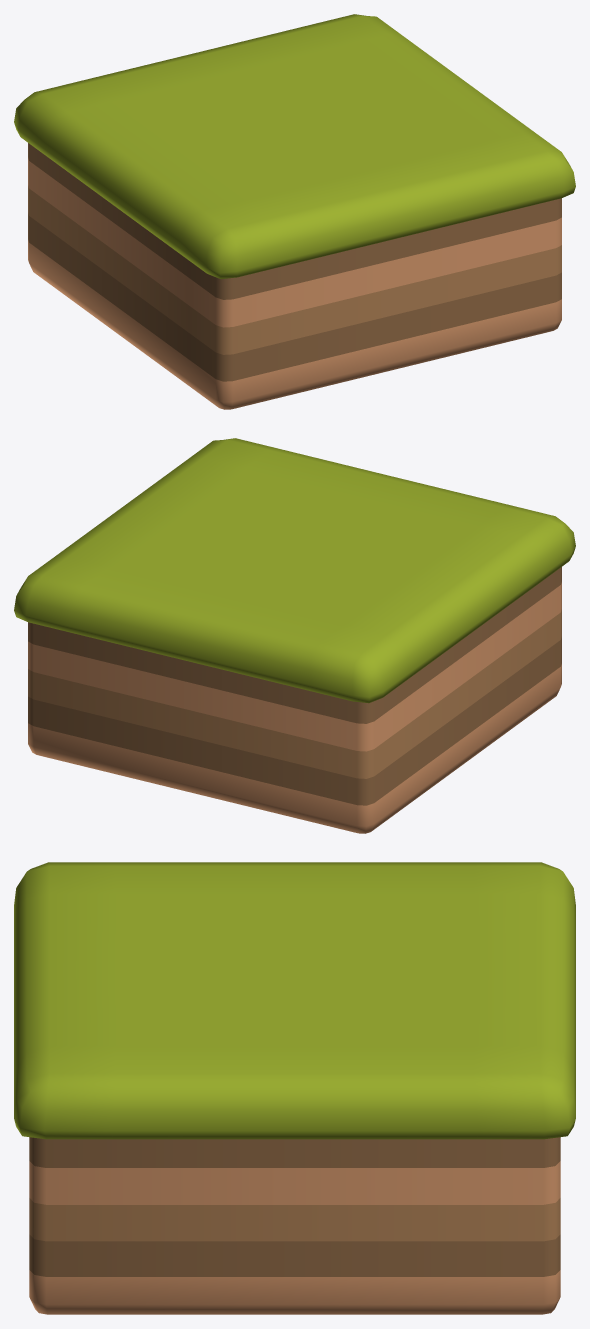
Rendered from tile.glb.
3 renders of one model, top to bottom at view 1: azimuth 30°, elevation 25°; view 2: azimuth 150°, elevation 25°; view 3: azimuth 270°, elevation 25°, orthographic. The views are drawn at different scales.
Visible parts, largest first — view 1: Cube_Grass_Side_Tall.003; view 2: Cube_Grass_Side_Tall.003; view 3: Cube_Grass_Side_Tall.003.
Part boxes in pixels (<box>): Cube_Grass_Side_Tall.003: <box>14,14,575,409</box>; Cube_Grass_Side_Tall.003: <box>14,438,575,833</box>; Cube_Grass_Side_Tall.003: <box>14,862,575,1314</box>.
Bounding box in the file's own units: 3.82 × 1.8 × 3.82.
